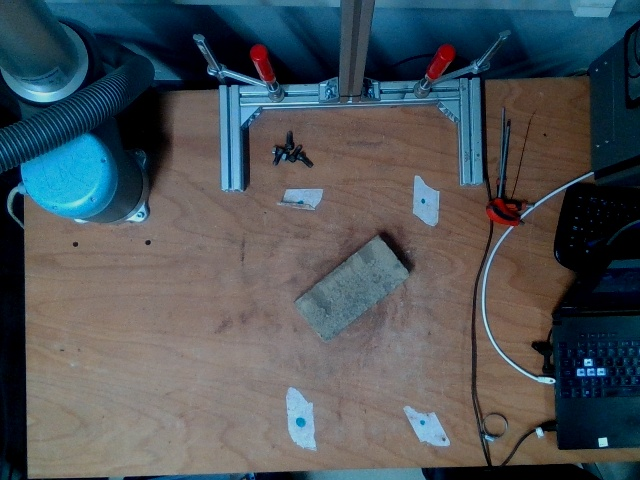brick: (297, 238, 409, 339)
